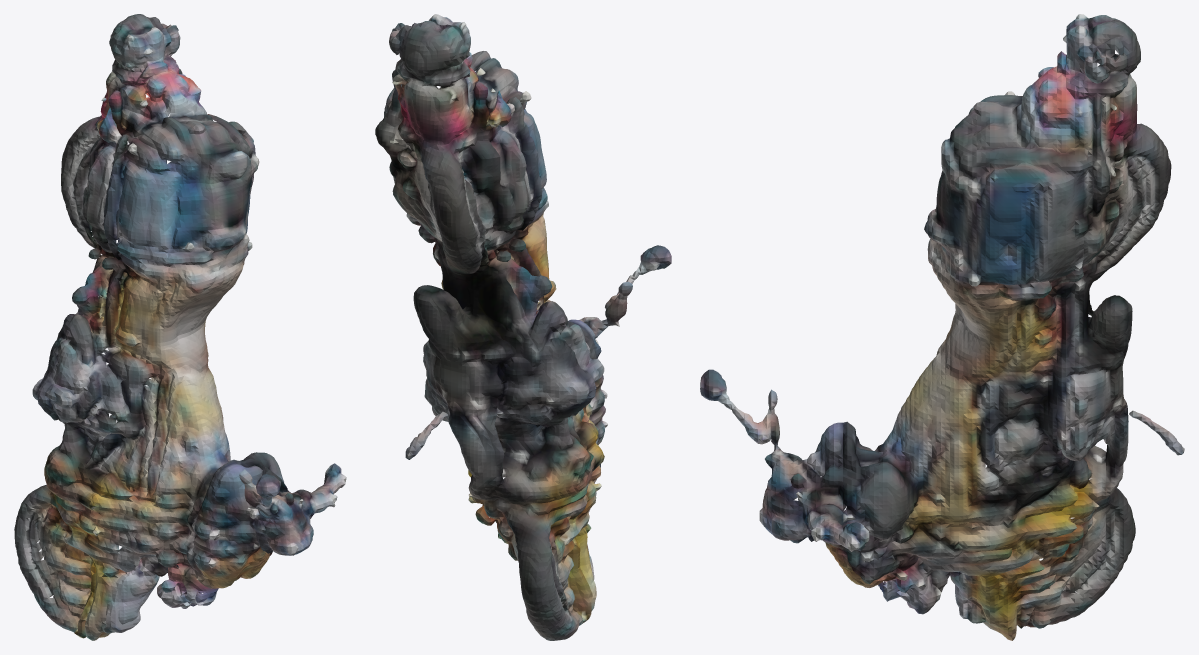
Rendered from 000002_motorcycle_vehicle_collector's item_10240_256.glb.
3 views of the same model, side by side, from view 1: azimuth 30°, elevation 25°; view 2: azimuth 150°, elevation 25°; view 3: azimuth 270°, elevation 25° (orthographic). The views are drawn at different scales.
Parts seen in each view (by area): view 1: world; view 2: world; view 3: world.
Boxes of the visible parts, x1,y1,x2,y2 form: world: (14, 14, 346, 640); world: (375, 14, 671, 640); world: (700, 14, 1184, 640).
Size of the model in its own units: 0.4622 by 1.12 by 0.7411.
